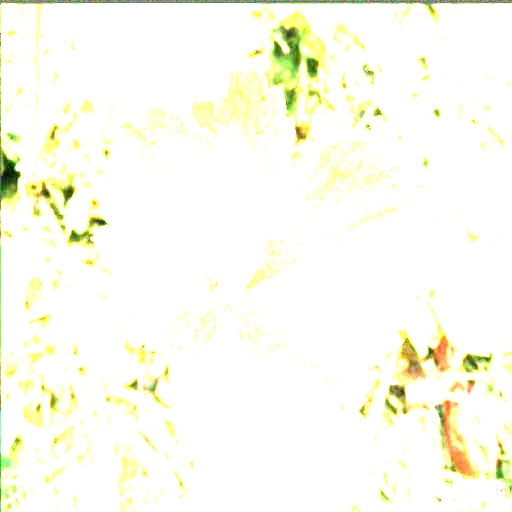Leaf Spot: (90, 61, 295, 353), (226, 127, 425, 368), (169, 290, 375, 511)
